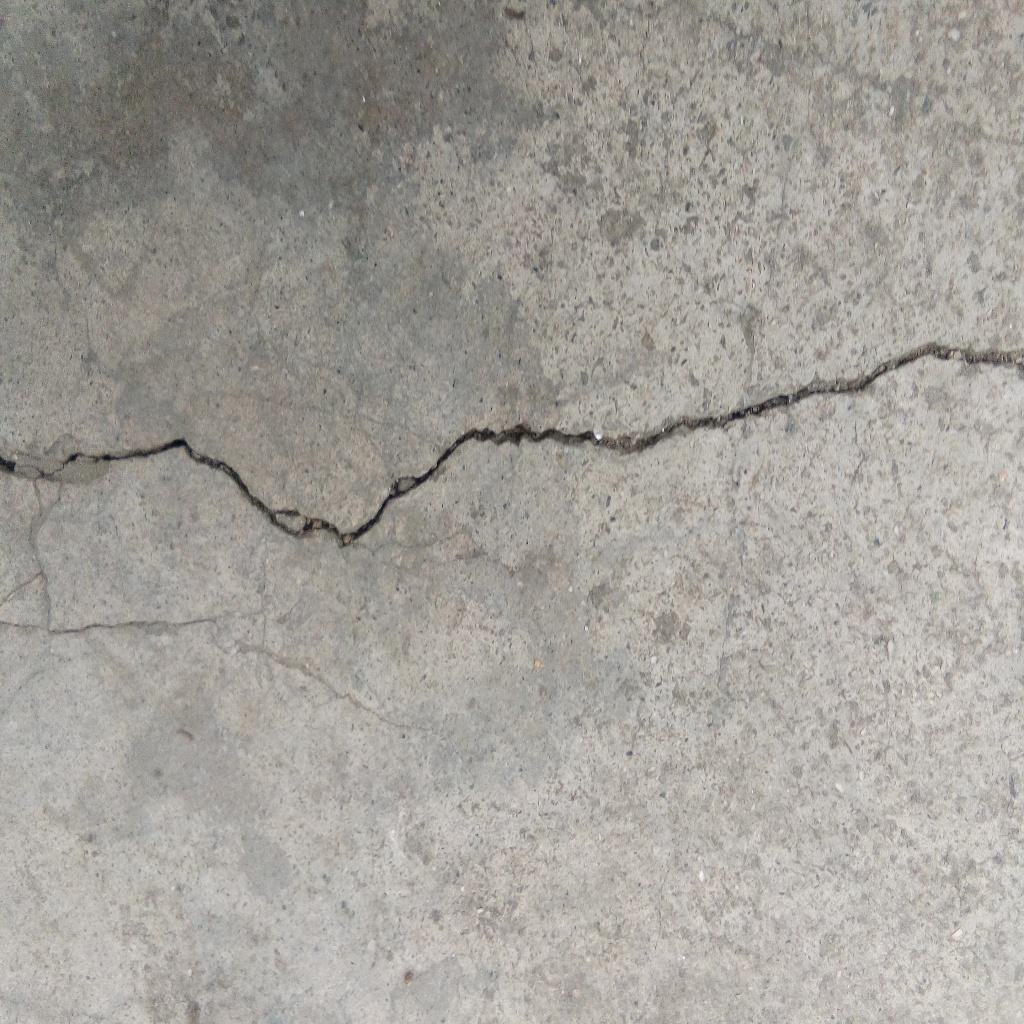Crack: (1, 339, 1024, 552)
